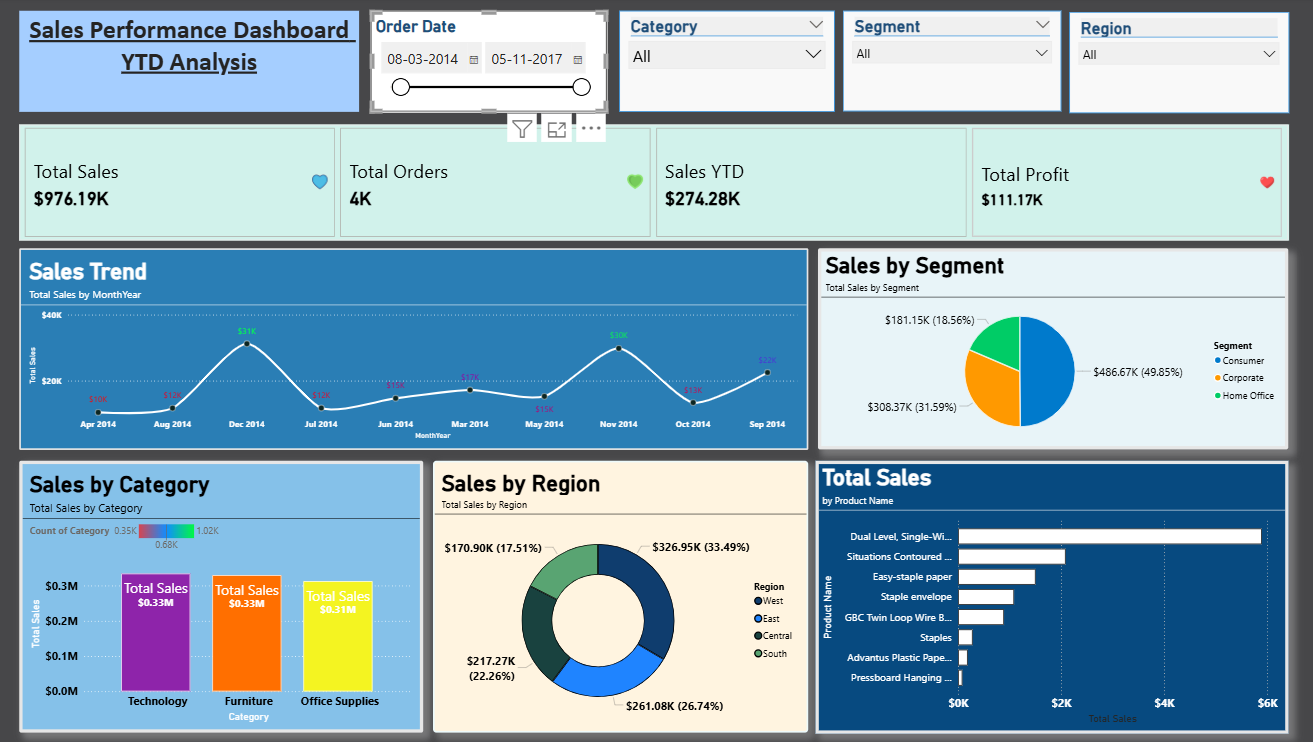

What the dashboard file says about the page in this screenshot:
{"tool":"powerbi","page":{"name":"Page 1","canvas":[1920,1080],"ordinal":0},"visuals":[{"type":"columnChart","title":"Sales by Category","fields":{"Category":["DimProduct.Category"],"Y":["FactSales.Total Sales"]},"box":[30,672.2,584.4,393.3],"z":0},{"type":"donutChart","title":"Sales by Region","fields":{"Category":["DimCustomer.Region"],"Y":["FactSales.Total Sales"]},"box":[628.9,672.2,543.3,393.3],"z":1000},{"type":"pieChart","title":"Sales by Segment","fields":{"Y":["FactSales.Total Sales"],"Category":["DimCustomer.Segment"]},"box":[1186.7,364.4,681.1,291.1],"z":2000},{"type":"lineChart","title":"Sales Trend","fields":{"Y":["FactSales.Total Sales"],"Category":["FactSales.MonthYear"]},"box":[30,364,1142,292],"z":3000},{"type":"clusteredBarChart","fields":{"Category":["DimProduct.Product Name"],"Y":["FactSales.Total Sales"]},"box":[1183.3,672.2,684.4,395.6],"z":4000},{"type":"cardVisual","fields":{"Data":["FactSales.Total Sales","FactSales.Total Orders","FactSales.Sales YTD","FactSales.Total Profit"]},"box":[30,184,1838,168],"z":5000},{"type":"slicer","fields":{"Values":["DimProduct.Category"]},"box":[900,20,312,146],"z":6000},{"type":"slicer","fields":{"Values":["DimCustomer.Segment"]},"box":[1223.1,20,316.2,145.4],"z":7000},{"type":"slicer","fields":{"Values":["DimCustomer.Region"]},"box":[1550,22,318,146],"z":8000},{"type":"slicer","title":"Order Date","fields":{"Values":["FactSales.Order Date"]},"box":[540,20,342,146],"z":9000},{"type":"textbox","box":[30,20,492,146],"z":10000}]}

Visuals, with their boxes in screenshot pixels (x1, y1, x2, y2), scaled from the page's 1920x1080 canvas onto the 1313x742 screenshot:
"Sales by Category" columnChart: 21:462:420:732
"Sales by Region" donutChart: 430:462:802:732
"Sales by Segment" pieChart: 812:250:1277:450
"Sales Trend" lineChart: 21:250:801:451
clusteredBarChart - DimProduct.Product Name x FactSales.Total Sales: 809:462:1277:734
cardVisual - FactSales.Total Sales x FactSales.Total Orders: 21:126:1277:242
slicer - DimProduct.Category: 615:14:829:114
slicer - DimCustomer.Segment: 836:14:1053:114
slicer - DimCustomer.Region: 1060:15:1277:115
"Order Date" slicer: 369:14:603:114
textbox: 21:14:357:114
